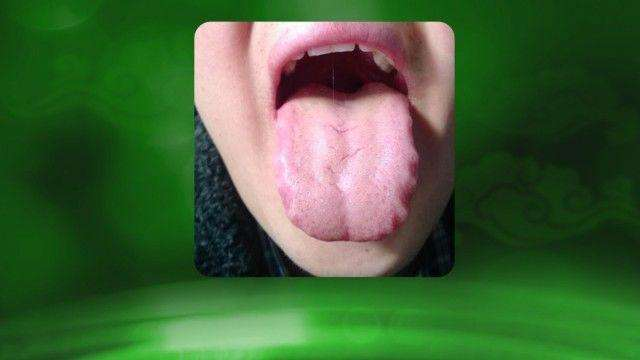chihenshe: (391, 154, 417, 230)
huangtaishe: (275, 81, 418, 241)
zishe: (275, 81, 418, 241)
